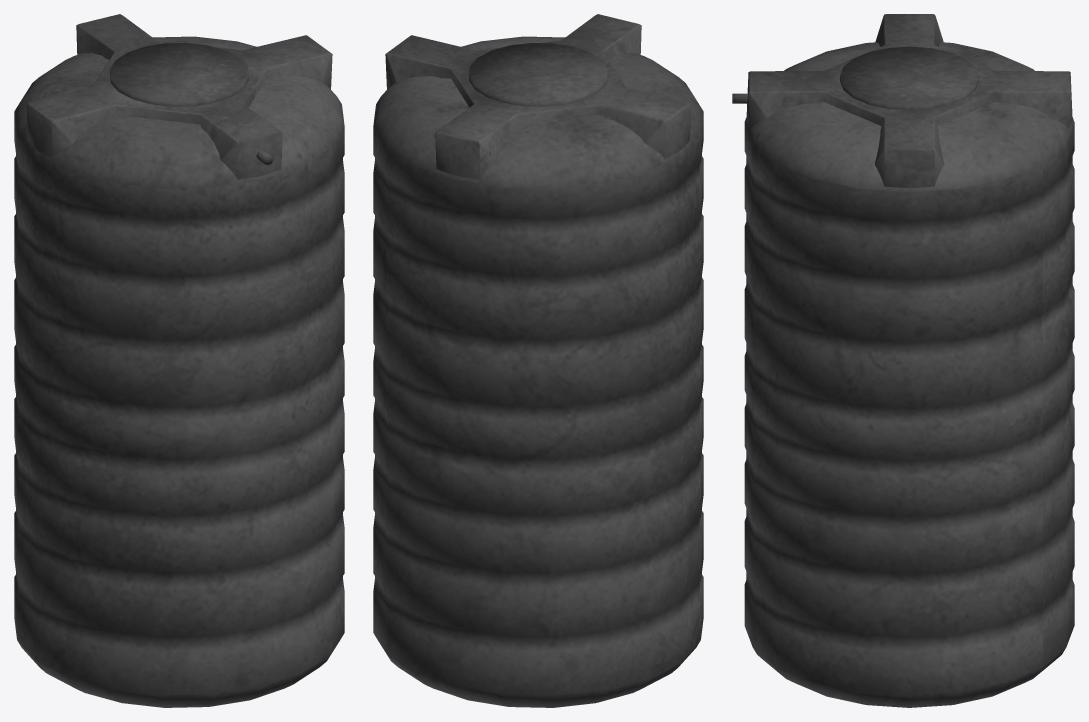
Rendered from SM_FAR_MilkBarrel_03.fbx.
The picture shows the model from 3 angles, left to right: view 1: azimuth 30°, elevation 25°; view 2: azimuth 150°, elevation 25°; view 3: azimuth 270°, elevation 25°; orthographic projection.
Parts seen in each view (by area): view 1: SM_FAR_MilkBarrel_03.mo; view 2: SM_FAR_MilkBarrel_03.mo; view 3: SM_FAR_MilkBarrel_03.mo.
Boxes of the visible parts, x1,y1,x2,y2 form: SM_FAR_MilkBarrel_03.mo: (14,14,344,707); SM_FAR_MilkBarrel_03.mo: (373,14,703,707); SM_FAR_MilkBarrel_03.mo: (732,14,1074,707).
Size of the model in its own units: 97.21 by 189 by 101.
